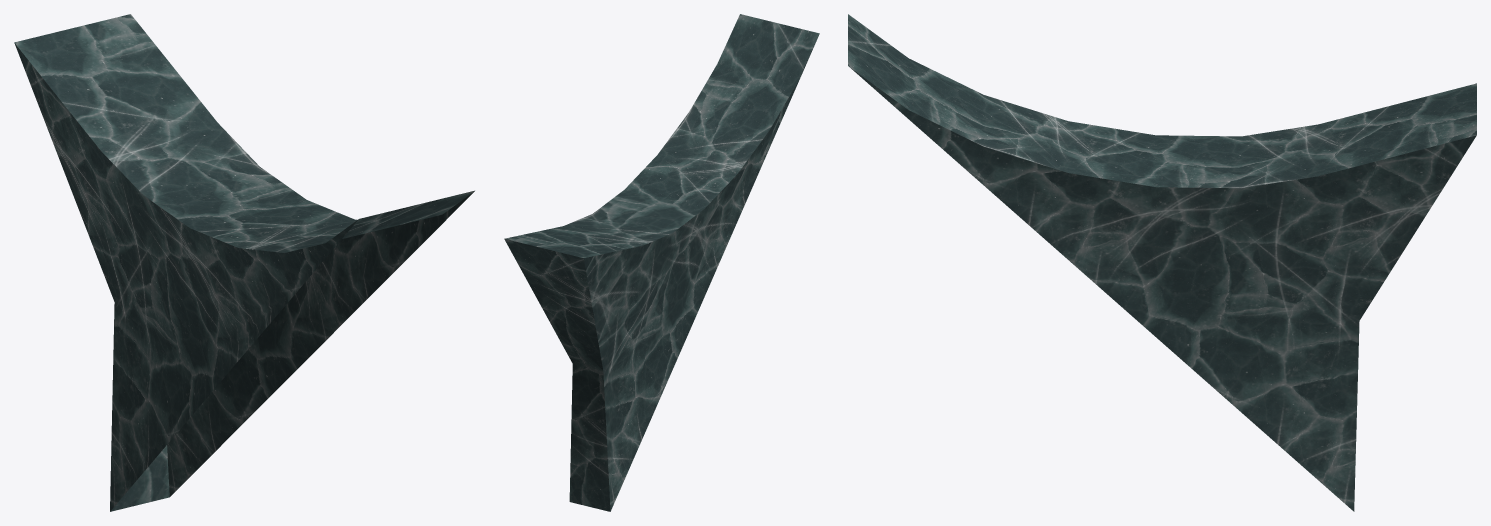
The model's file is Dragonfly_IceSlide_Straight_Ramp.fbx.
3 renders of one model, left to right at view 1: azimuth 30°, elevation 25°; view 2: azimuth 150°, elevation 25°; view 3: azimuth 270°, elevation 25°, orthographic. The views are drawn at different scales.
Parts seen in each view (by area): view 1: Slide Ramp; view 2: Slide Ramp; view 3: Slide Ramp.
Part boxes in pixels (x1=…): Slide Ramp: x1=14, y1=14, x2=474, y2=511; Slide Ramp: x1=504, y1=14, x2=819, y2=511; Slide Ramp: x1=848, y1=14, x2=1476, y2=511.
Size of the model in its own units: 2 by 8.25 by 10.25.
